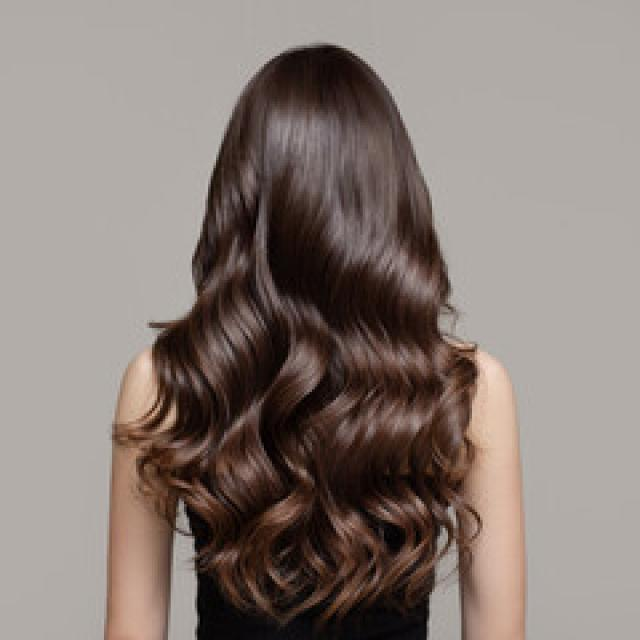Nonhelmet: (211, 31, 424, 338)
